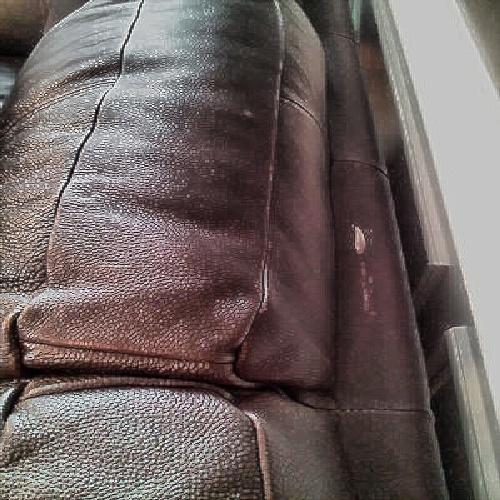sofa: (24, 10, 416, 483)
